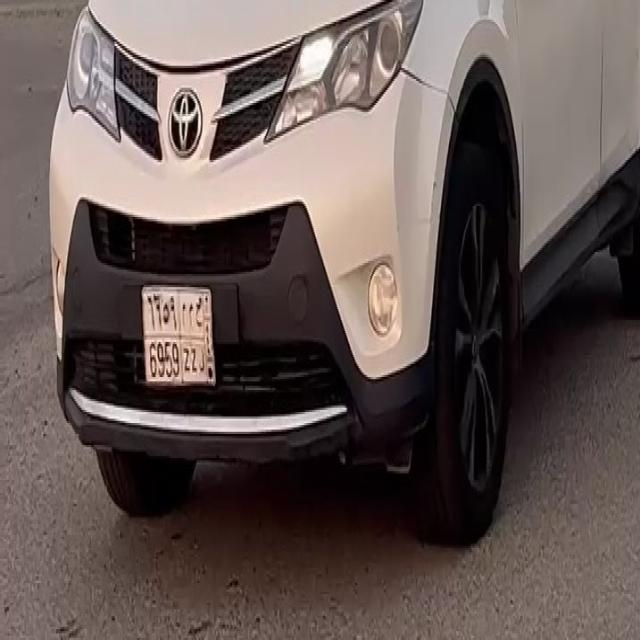Car-plate: (138, 265, 220, 399)
